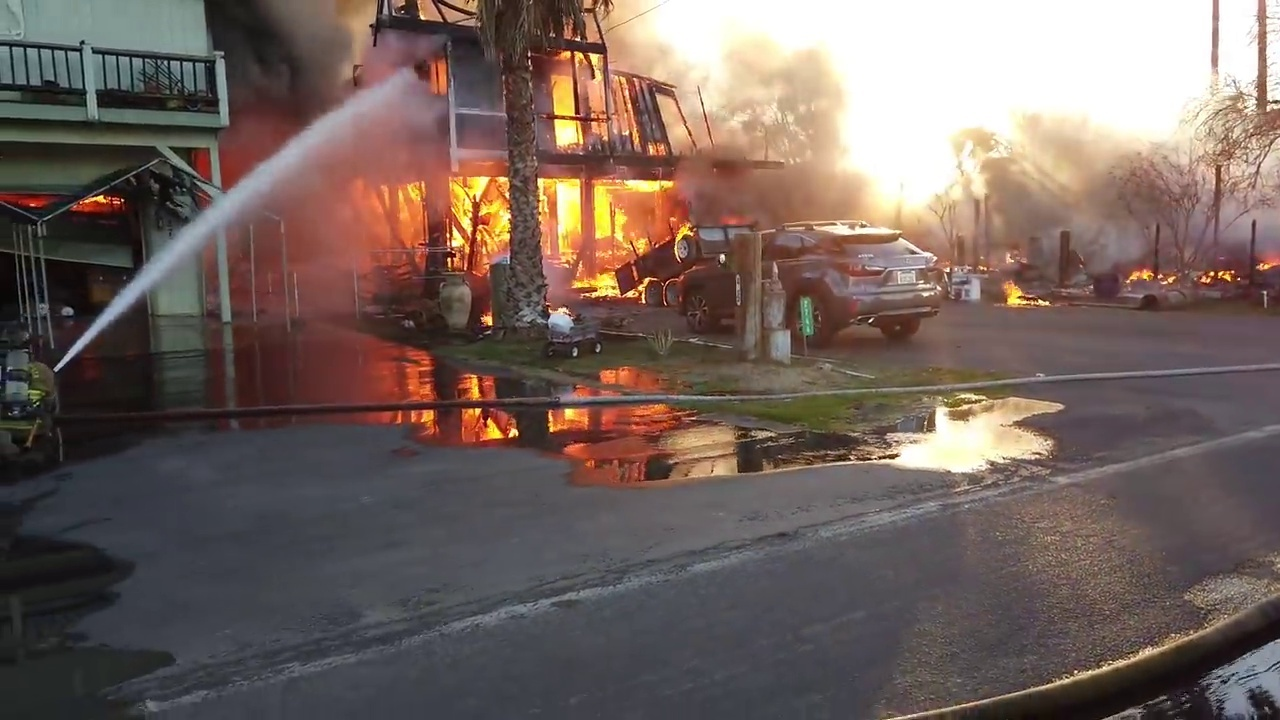fire: (380, 148, 703, 435), (861, 128, 1007, 217), (552, 45, 633, 146), (550, 179, 629, 258), (1124, 266, 1236, 283), (999, 279, 1053, 303), (65, 192, 128, 211), (826, 217, 907, 231), (8, 190, 55, 209), (1257, 252, 1279, 267)
smoke: (678, 19, 877, 222), (1007, 118, 1280, 248), (211, 2, 345, 109), (578, 1, 679, 83)
